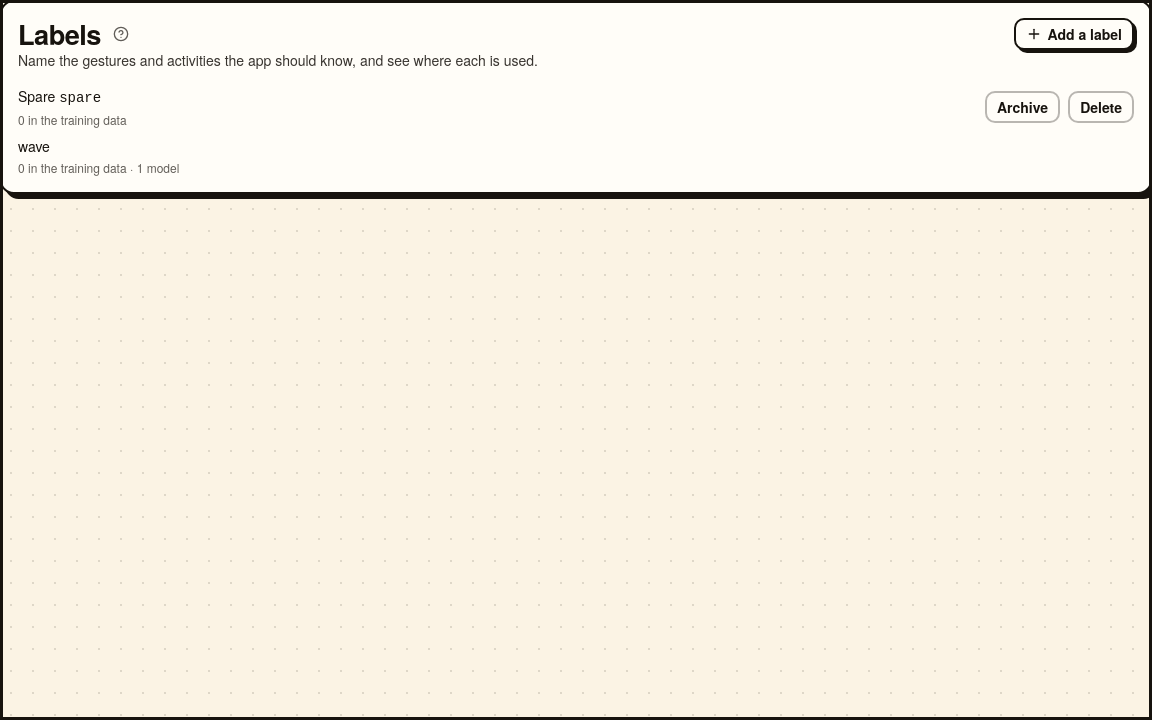
Test: LabelCoverage › shows the reason when a delete is refused, and lists a label only a model refers to
Expected: the text "wave" is shown, [18, 136, 50, 156]
Click the button with aria-label "Delete spare": (1101, 107) [1068, 91, 1134, 123]
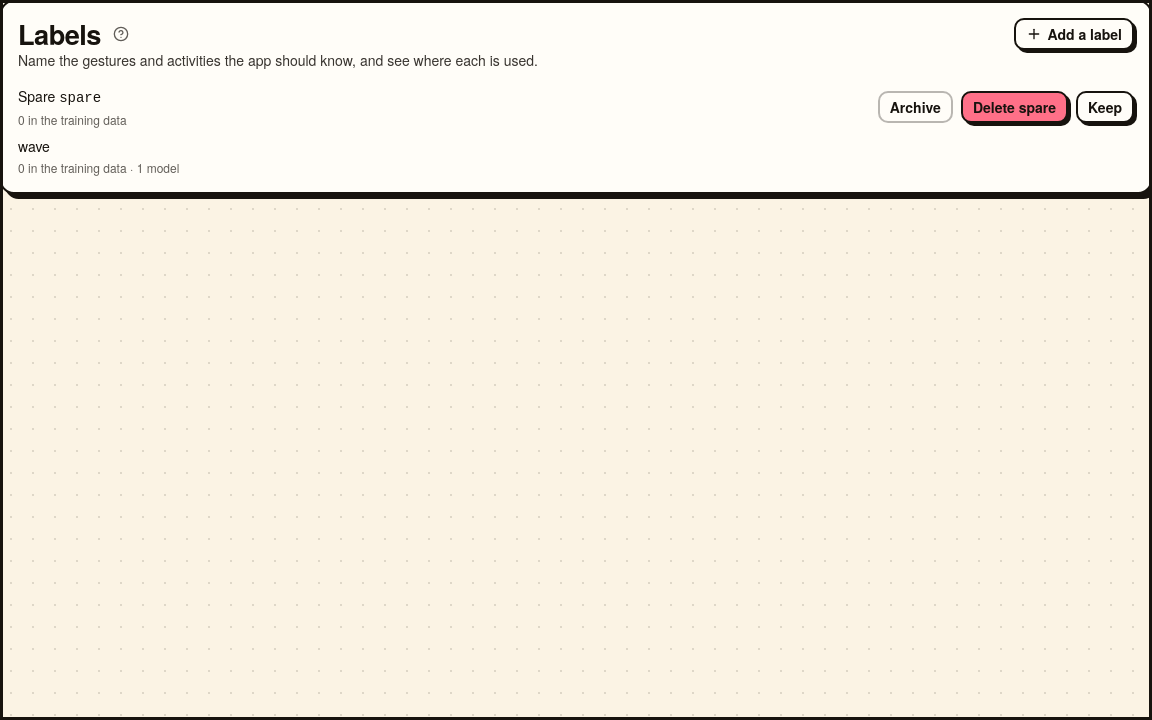
Click the button "Delete spare": (1014, 107) [961, 91, 1068, 123]
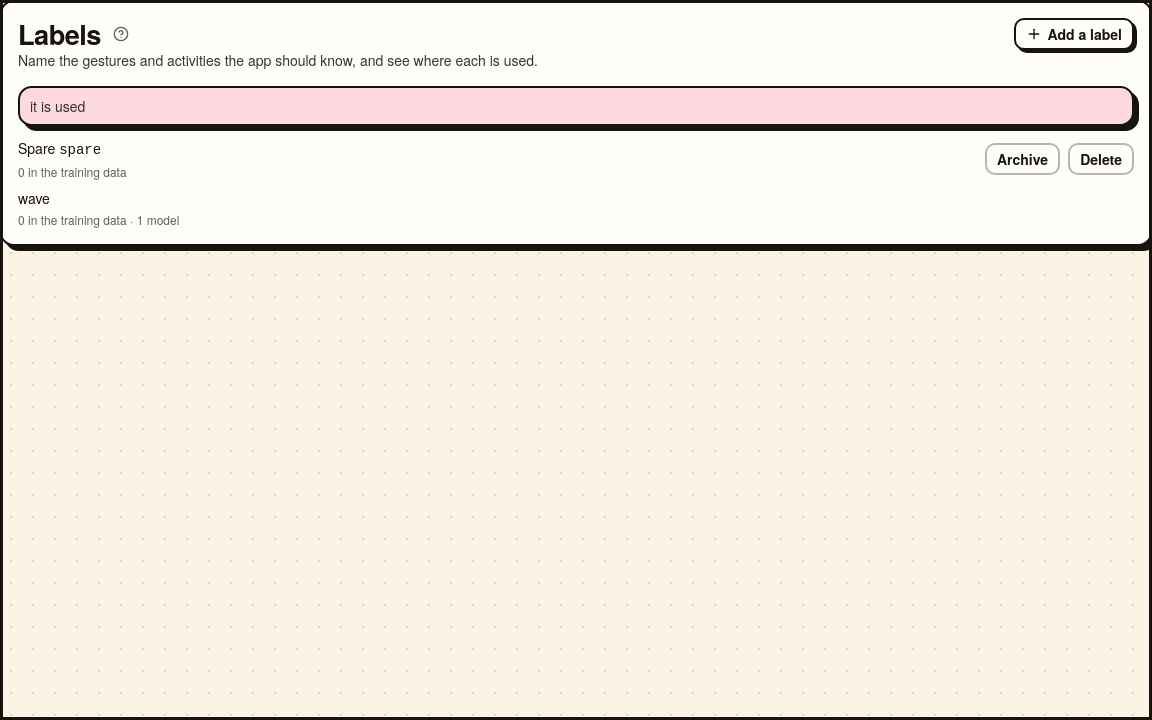
Expected: the message reads "it is used", [30, 96, 85, 116]
